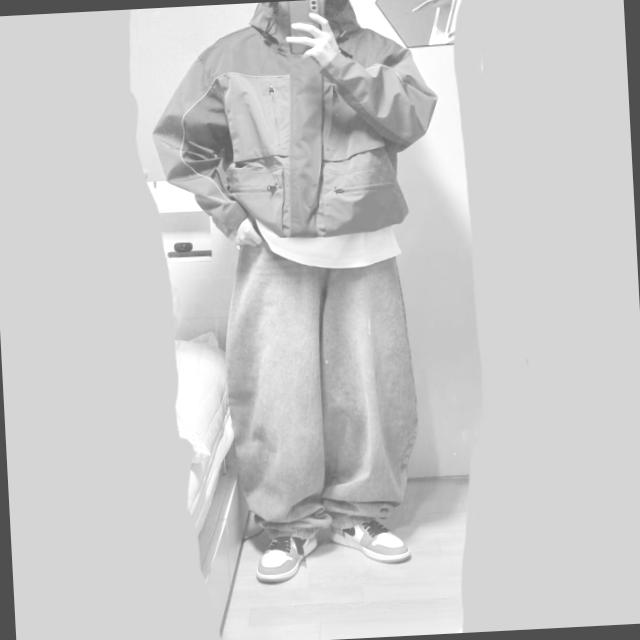denimpants: (221, 229, 423, 540)
jacket: (148, 0, 442, 247)
